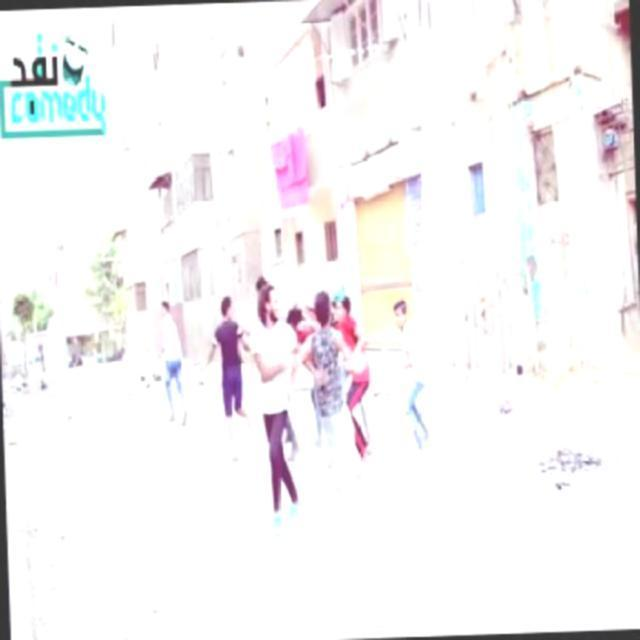fight: (295, 274, 380, 504)
non-fight: (251, 280, 306, 528), (384, 283, 439, 472), (196, 288, 256, 452), (151, 294, 191, 428)
